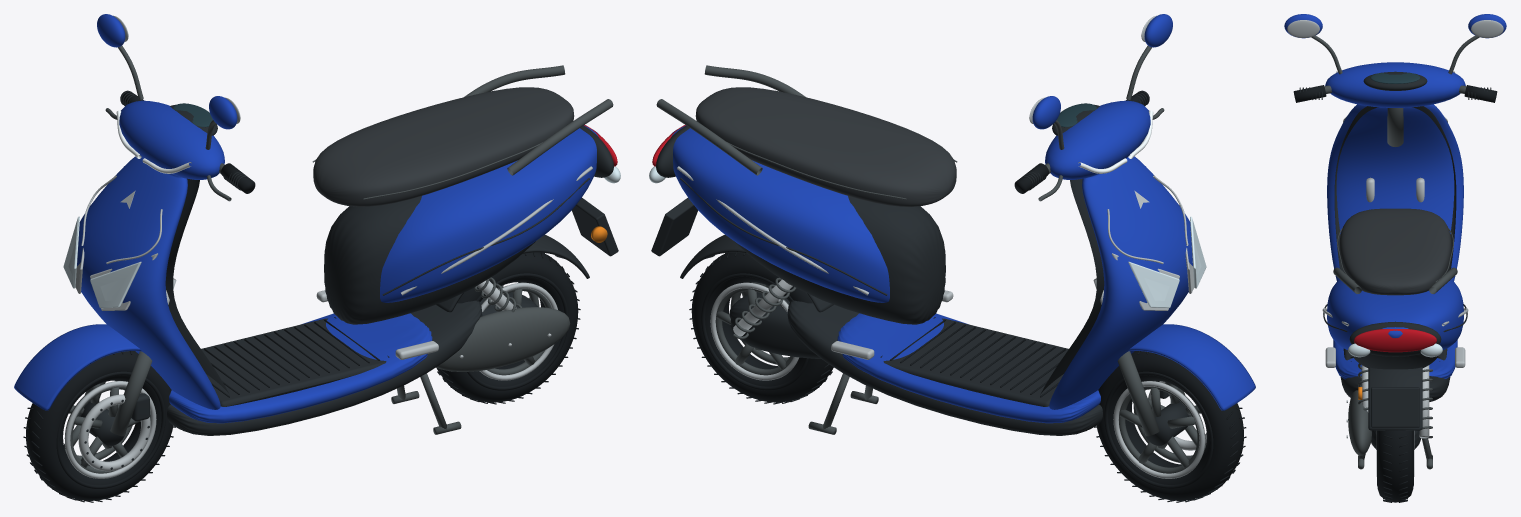
Rendered from teja.glb.
3 renders of one model, left to right at view 1: azimuth 30°, elevation 25°; view 2: azimuth 150°, elevation 25°; view 3: azimuth 270°, elevation 25°, orthographic. The views are drawn at different scales.
Visible parts, largest first — view 1: Painted floor edge.001, Front hub.001, Saddle.001, Front tyre.001, Front alloy rim.002, Front machined rim.002, Rear turn signal.002; view 2: Painted floor edge.001, Front hub.001, Front tyre.001, Saddle.001, Front alloy rim.002, Front machined rim.002, Rear turn signal.002; view 3: Painted floor edge.001, Saddle.001, Front hub.001, Front alloy rim.002, Front tyre.001, Front machined rim.002, Tail lamp lens.001, Instrument screen.001, Rear turn signal.002.
Part boxes in pixels (x1,y1,x2,y2): Painted floor edge.001: [14, 14, 598, 423]; Front hub.001: [78, 91, 618, 469]; Saddle.001: [313, 87, 574, 206]; Front tyre.001: [23, 90, 580, 502]; Front alloy rim.002: [64, 45, 613, 473]; Front machined rim.002: [65, 15, 592, 478]; Rear turn signal.002: [63, 166, 620, 308]; Painted floor edge.001: [671, 14, 1255, 423]; Front hub.001: [651, 91, 1191, 445]; Front tyre.001: [689, 90, 1246, 502]; Saddle.001: [695, 87, 956, 206]; Front alloy rim.002: [656, 45, 1205, 473]; Front machined rim.002: [677, 15, 1206, 478]; Rear turn signal.002: [649, 166, 1206, 308]; Painted floor edge.001: [1284, 14, 1506, 379]; Saddle.001: [1339, 208, 1451, 295]; Front hub.001: [1299, 71, 1491, 449]; Front alloy rim.002: [1311, 35, 1479, 469]; Front tyre.001: [1293, 85, 1497, 502]; Front machined rim.002: [1287, 20, 1503, 476]; Tail lamp lens.001: [1354, 329, 1436, 352]; Instrument screen.001: [1370, 73, 1420, 83]; Rear turn signal.002: [1348, 343, 1442, 357].
Size of the model in its own units: 1.91 by 1.34 by 0.774.
